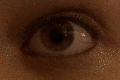eye: (41, 19, 74, 51)
